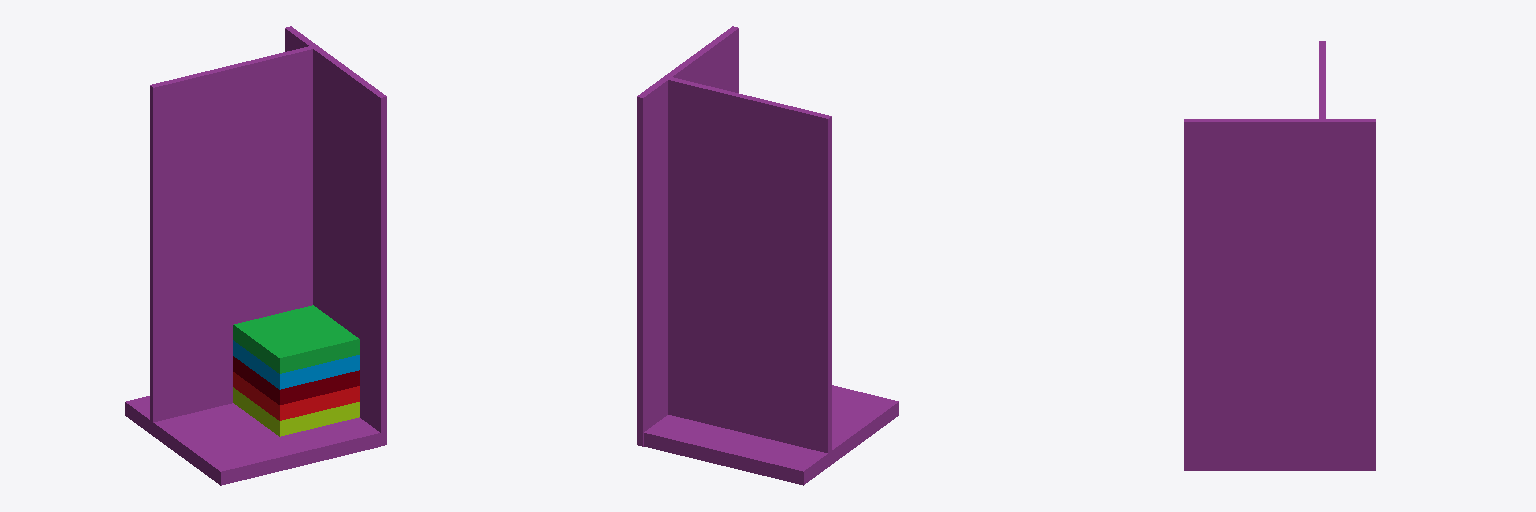
Rendered from pizza-boxes-corner.obj.
3 views of the same model, side by side, from view 1: azimuth 30°, elevation 25°; view 2: azimuth 150°, elevation 25°; view 3: azimuth 270°, elevation 25° (orthographic).
Parts seen in each view (by area): view 1: Object.2, Object.1, Object.4, Object.8, Object.3, Object.5, Object.7, Object.6; view 2: Object.2, Object.1, Object.4; view 3: Object.1, Object.2.
Boxes of the visible parts, box(x1,y1,x2,y2) form: Object.2: box(150, 45, 318, 435); Object.1: box(285, 26, 386, 445); Object.4: box(125, 396, 380, 485); Object.8: box(233, 305, 359, 373); Object.3: box(233, 387, 359, 436); Object.5: box(233, 372, 359, 420); Object.7: box(233, 340, 359, 389); Object.6: box(233, 356, 359, 404); Object.2: box(662, 75, 831, 466); Object.1: box(637, 26, 738, 446); Object.4: box(644, 385, 898, 485); Object.1: box(1184, 119, 1375, 470); Object.2: box(1319, 41, 1325, 121).
Size of the model in its own units: 500 by 1000 by 500.